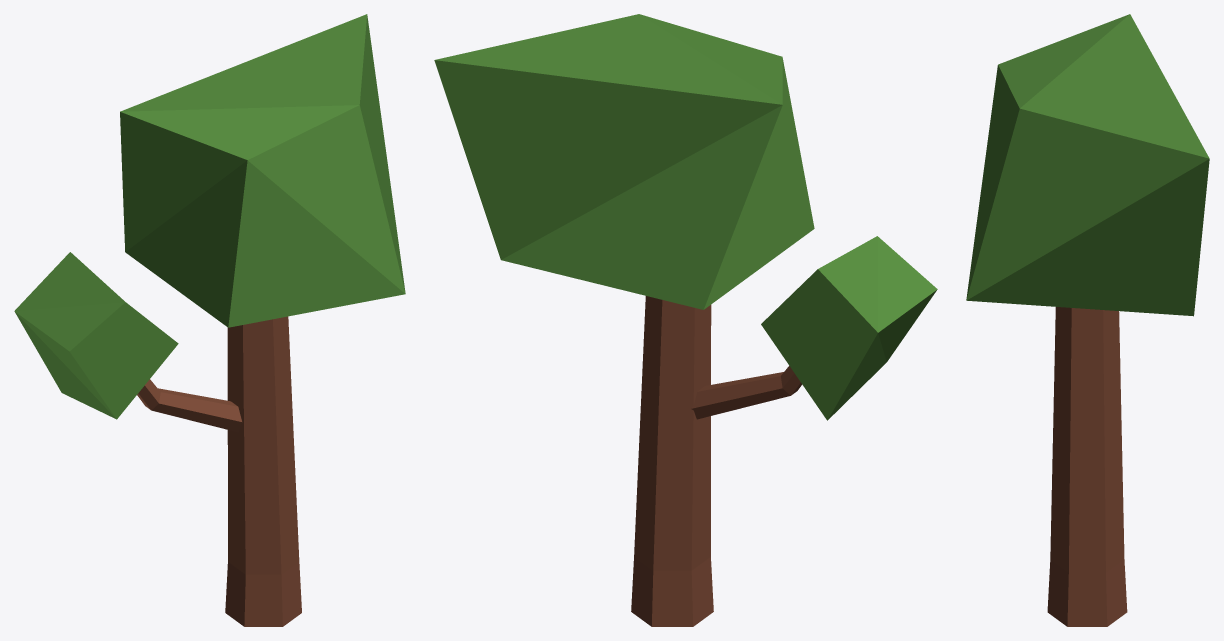
The model's file is Tree_45_summer_vc.fbx.
3 renders of one model, left to right at view 1: azimuth 30°, elevation 25°; view 2: azimuth 150°, elevation 25°; view 3: azimuth 270°, elevation 25°, orthographic. The views are drawn at different scales.
Visible parts, largest first — view 1: Tree_45_summer_vc; view 2: Tree_45_summer_vc; view 3: Tree_45_summer_vc.
Part boxes in pixels (x1,y1,x2,y2): Tree_45_summer_vc: (14, 14, 405, 626); Tree_45_summer_vc: (434, 14, 937, 626); Tree_45_summer_vc: (966, 14, 1209, 626).
Size of the model in its own units: 139 by 179 by 73.58.
